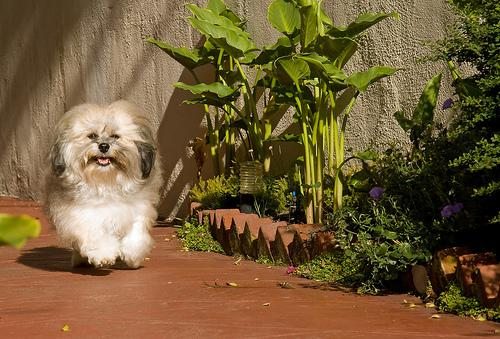dog-havanese: (52, 103, 153, 183)
